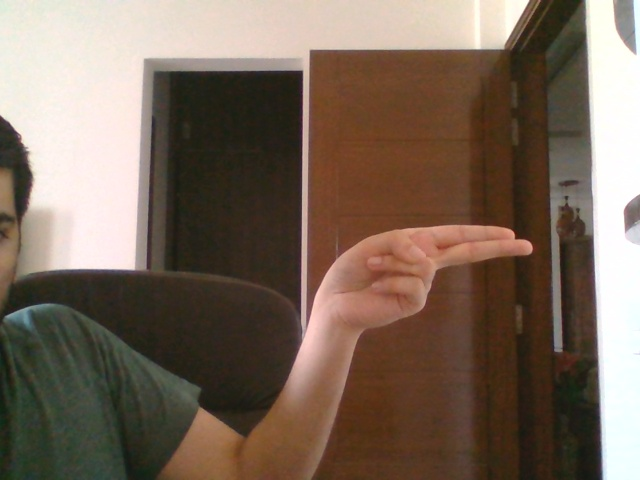LetterH: (310, 224, 534, 336)
